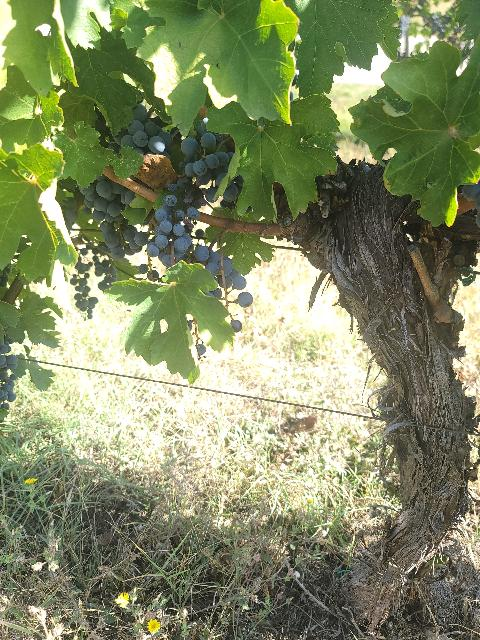grapes: (134, 176, 206, 268), (79, 175, 149, 261), (194, 245, 254, 308), (181, 132, 229, 202), (115, 104, 172, 158), (70, 261, 98, 319)
